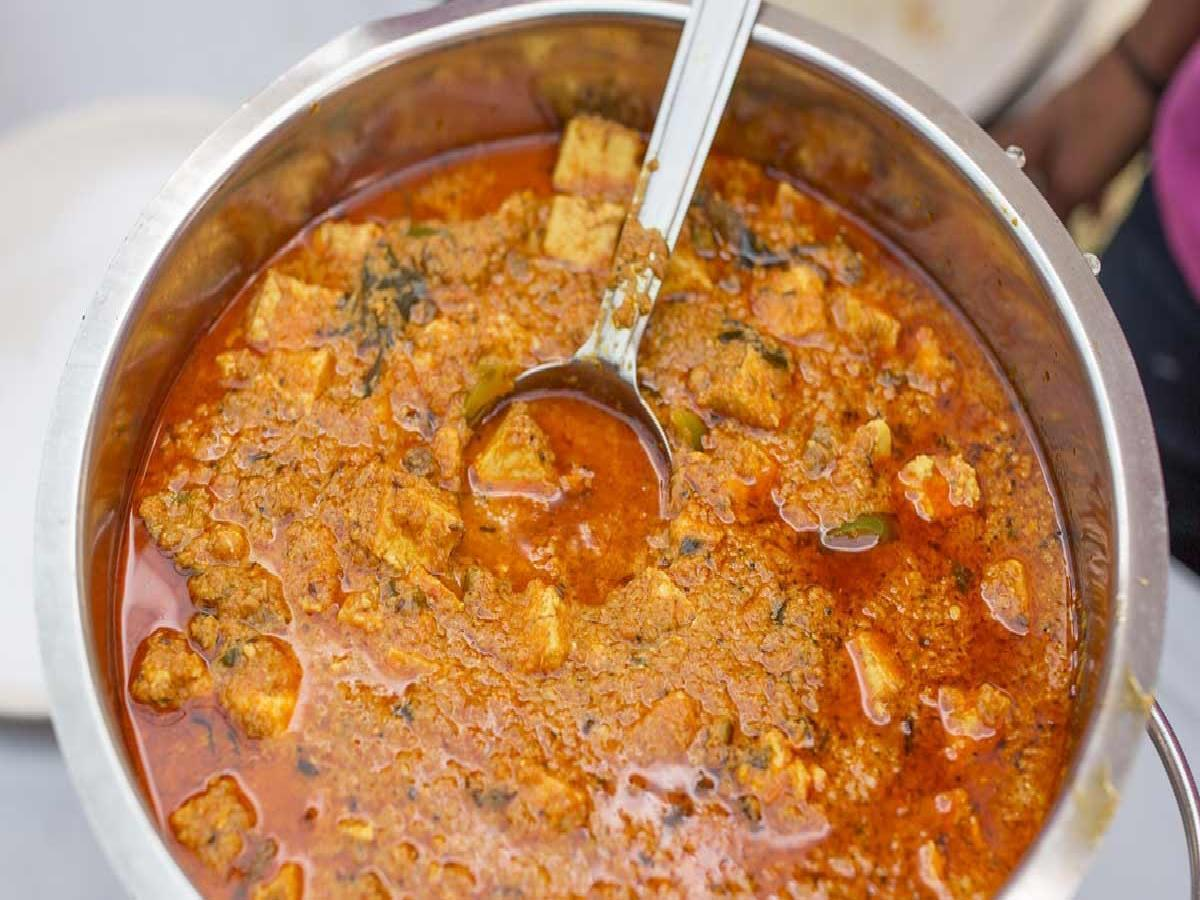paneer: (241, 534, 874, 851)
